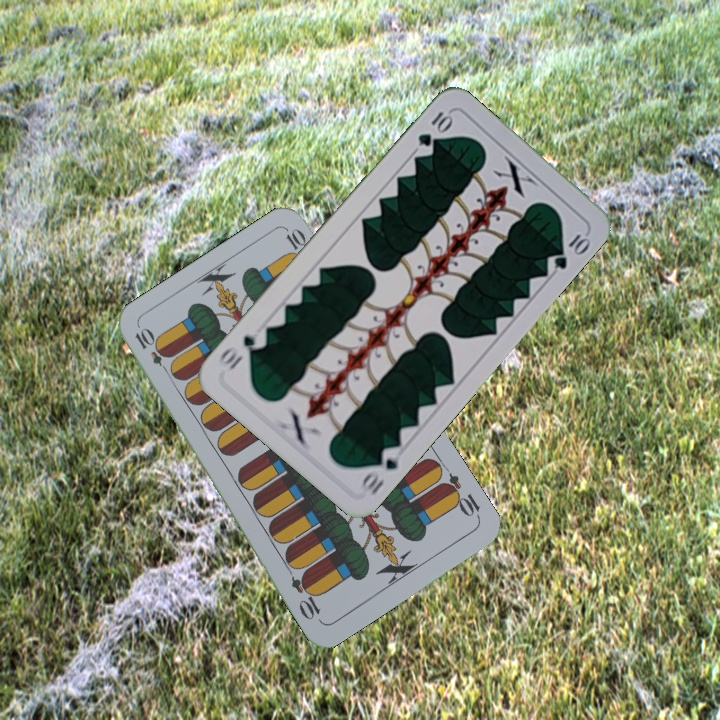E10: (437, 469, 483, 522), (130, 324, 174, 378)
G10: (357, 442, 405, 498), (413, 107, 455, 149)
